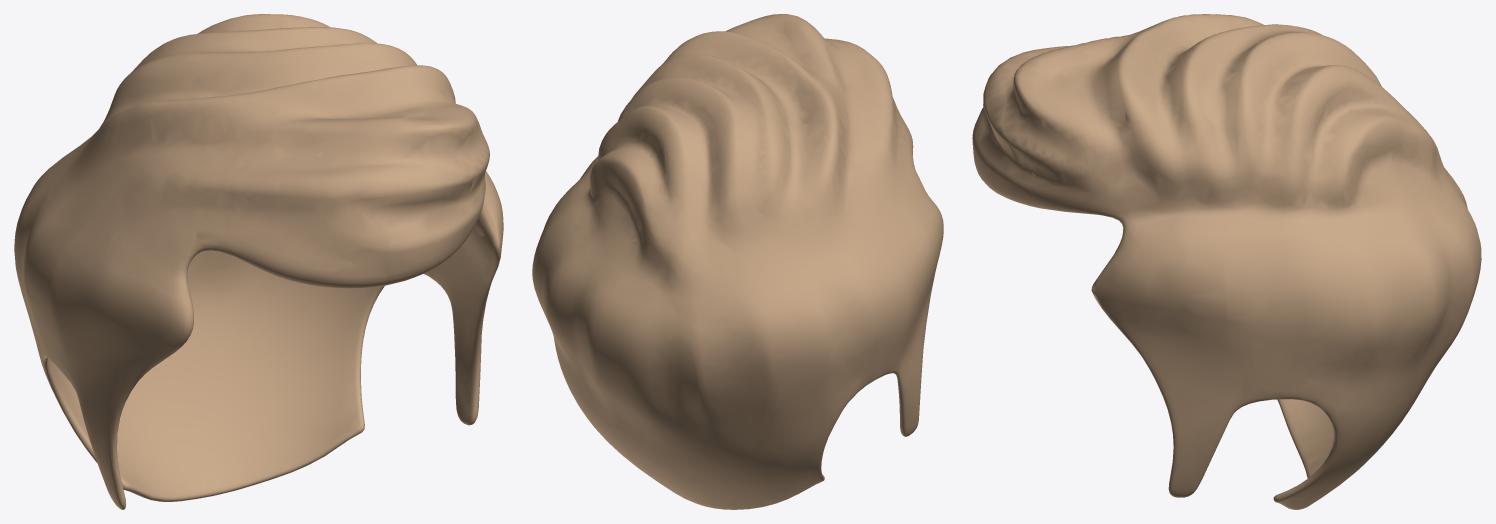
The model's file is hair-4-bdee0a1f.glb.
The picture shows the model from 3 angles, left to right: view 1: azimuth 30°, elevation 25°; view 2: azimuth 150°, elevation 25°; view 3: azimuth 270°, elevation 25°; orthographic projection. The views are drawn at different scales.
Visible parts, largest first — view 1: Geo_White_Old_Male_Hair_4.001; view 2: Geo_White_Old_Male_Hair_4.001; view 3: Geo_White_Old_Male_Hair_4.001.
Boxes of the visible parts, <box> form: Geo_White_Old_Male_Hair_4.001: <box>14,14,503,509</box>; Geo_White_Old_Male_Hair_4.001: <box>532,14,943,509</box>; Geo_White_Old_Male_Hair_4.001: <box>972,14,1481,509</box>.
Bounding box in the file's own units: 1.48 × 1.67 × 1.68.
